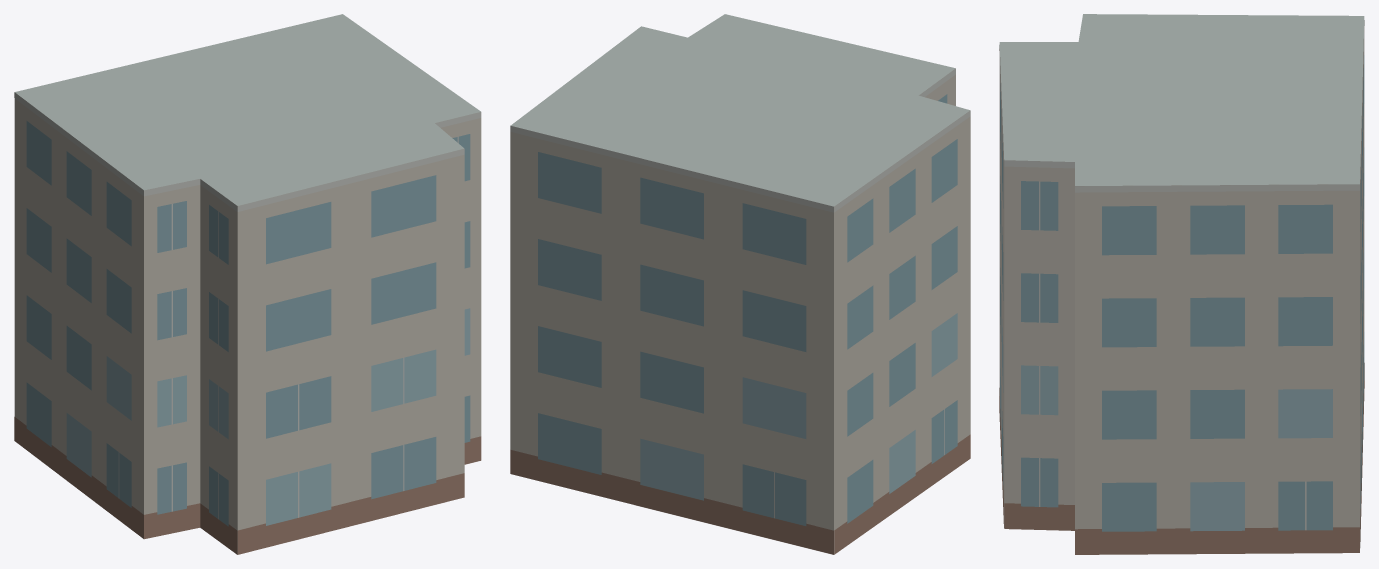
The model's file is survey-upis-32500753.glb.
3 views of the same model, side by side, from view 1: azimuth 30°, elevation 25°; view 2: azimuth 150°, elevation 25°; view 3: azimuth 270°, elevation 25° (orthographic). The views are drawn at different scales.
Parts seen in each view (by area): view 1: survey-upis-32500753.tmp; view 2: survey-upis-32500753.tmp; view 3: survey-upis-32500753.tmp.
Boxes of the visible parts, <box> form: survey-upis-32500753.tmp: <box>14,14,481,554</box>; survey-upis-32500753.tmp: <box>510,14,970,554</box>; survey-upis-32500753.tmp: <box>999,14,1364,554</box>.
Bounding box in the file's own units: 14.07 × 14.05 × 12.61.
